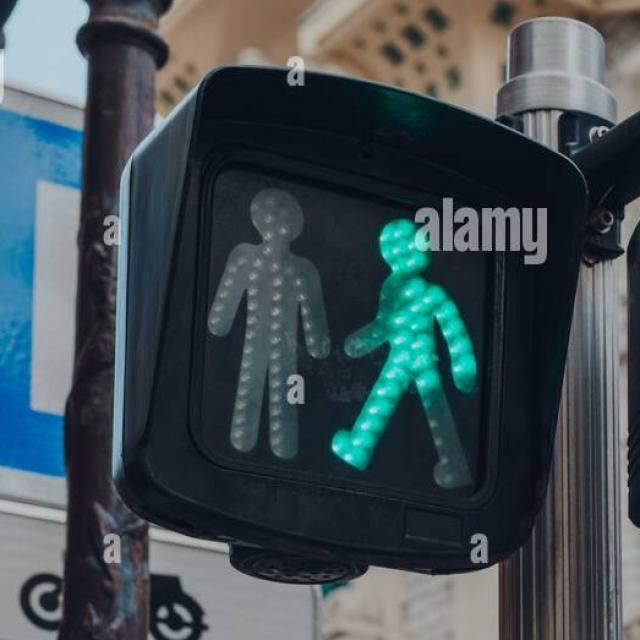green_light: (327, 202, 479, 488)
